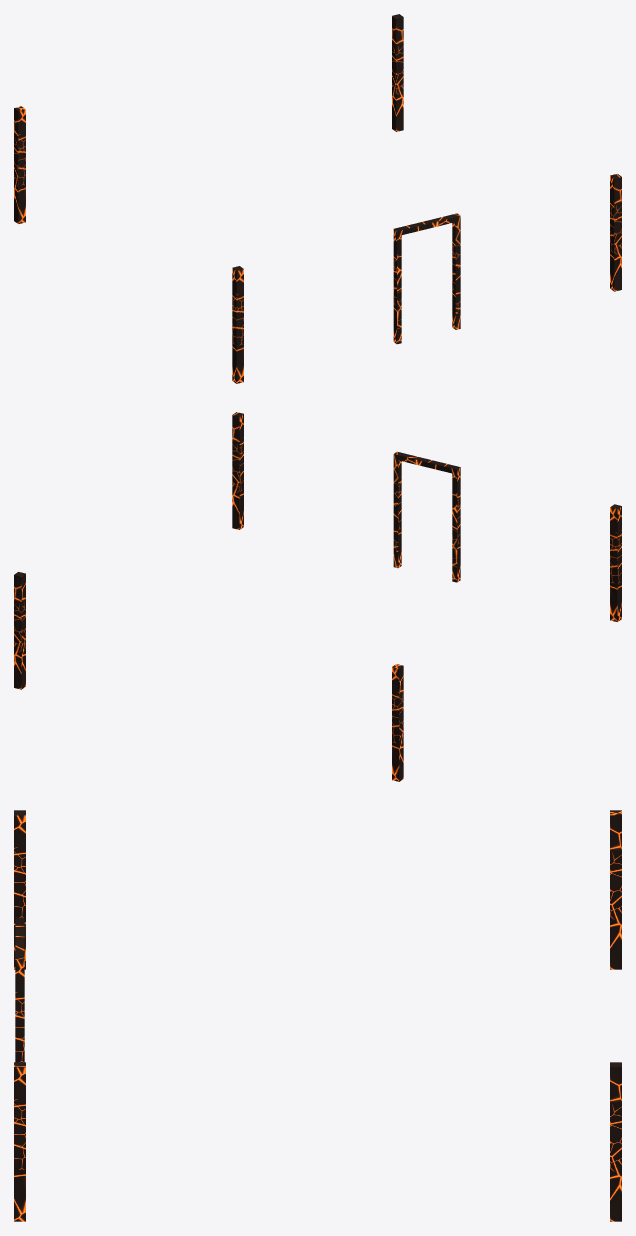
Rendered from accent-skin-5.glb.
3 views of the same model, one above another, from view 1: azimuth 30°, elevation 25°; view 2: azimuth 150°, elevation 25°; view 3: azimuth 270°, elevation 25° (orthographic). The views are drawn at different scales.
Parts seen in each view (by area): view 1: accent-skin-5; view 2: accent-skin-5; view 3: accent-skin-5.
Boxes of the visible parts, left/top/right/bottom form: accent-skin-5: left=14, top=14, right=621, bottom=383; accent-skin-5: left=14, top=412, right=621, bottom=781; accent-skin-5: left=14, top=810, right=621, bottom=1221.
Size of the model in its own units: 14.28 by 4 by 14.28.
1 material, 1 textured.
